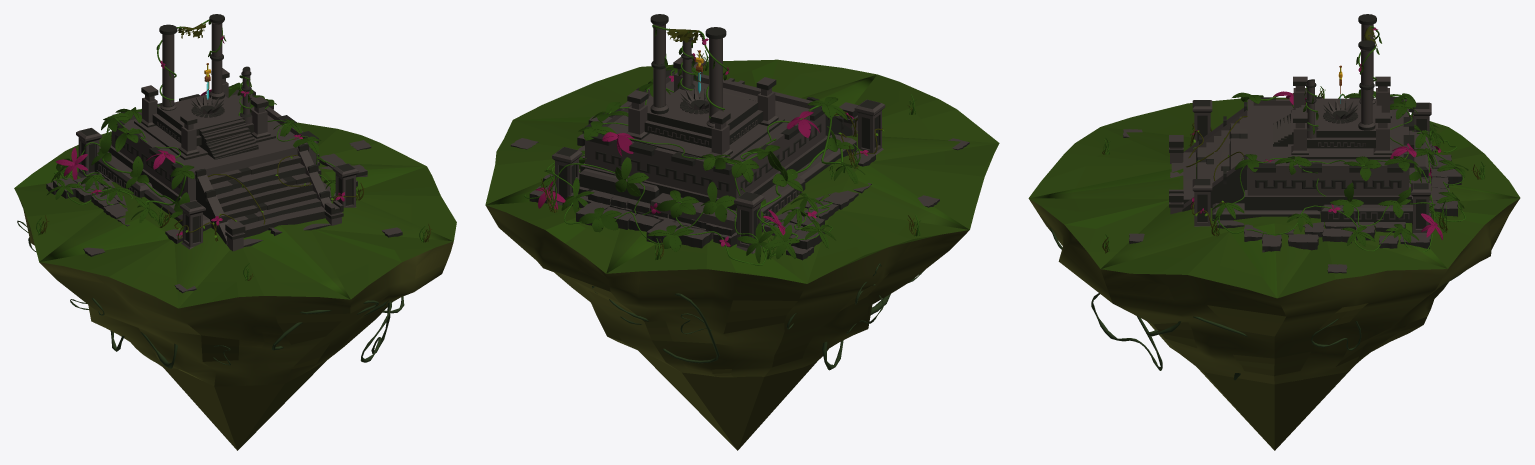
Rendered from island.fbx.
3 views of the same model, side by side, from view 1: azimuth 30°, elevation 25°; view 2: azimuth 150°, elevation 25°; view 3: azimuth 270°, elevation 25° (orthographic). The views are drawn at different scales.
Visible parts, largest first — view 1: Cylinder008, Box069, Box100, Box099, Box074, Cylinder004, box,, Cylinder003, Box079, Box080, Box073, Box081 (+11 smaller); view 2: Cylinder008, Box069, Box100, Box099, Cylinder003, Cylinder004, Box073, Box094, Box132, Box133, Box095, Box091 (+4 smaller); view 3: Cylinder008, Box069, Box100, Box099, Box074, Box092, Cylinder003, Line124, Box093, Box133, Box134, Box073 (+3 smaller).
Part boxes in pixels (<box>): Cylinder008: <box>14,122,456,450</box>; Box069: <box>108,86,321,202</box>; Box100: <box>134,68,275,159</box>; Box099: <box>53,153,367,243</box>; Box074: <box>196,149,331,244</box>; Cylinder004: <box>159,24,177,110</box>; box,: <box>211,163,305,194</box>; Cylinder003: <box>209,14,224,99</box>; Box079: <box>243,206,325,237</box>; Box080: <box>220,182,312,212</box>; Box073: <box>180,200,205,249</box>; Box081: <box>216,173,309,203</box>; Cylinder008: <box>485,59,999,450</box>; Box069: <box>580,68,830,210</box>; Box100: <box>624,57,784,163</box>; Box099: <box>529,116,875,249</box>; Cylinder003: <box>650,14,668,114</box>; Cylinder004: <box>705,27,726,127</box>; Box073: <box>854,99,885,154</box>; Box094: <box>579,168,659,203</box>; Box132: <box>734,191,764,253</box>; Box133: <box>552,147,582,205</box>; Box095: <box>650,193,736,230</box>; Box091: <box>797,134,856,182</box>; Cylinder008: <box>1028,97,1520,450</box>; Box069: <box>1244,97,1414,211</box>; Box100: <box>1288,76,1395,159</box>; Box099: <box>1216,141,1462,252</box>; Box074: <box>1182,107,1247,211</box>; Box092: <box>1321,204,1412,222</box>; Cylinder003: <box>1358,40,1375,130</box>; Line124: <box>1255,179,1401,188</box>; Box093: <box>1212,203,1320,220</box>; Box133: <box>1411,183,1430,236</box>; Box134: <box>1192,179,1212,226</box>; Box073: <box>1192,100,1212,143</box>.
Bounding box in the file's own units: 225 × 219 × 233.
